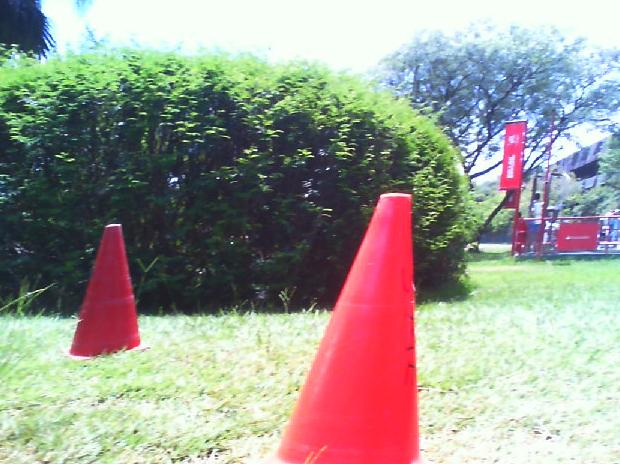0 cone: (254, 193, 445, 464), (63, 224, 151, 362)
